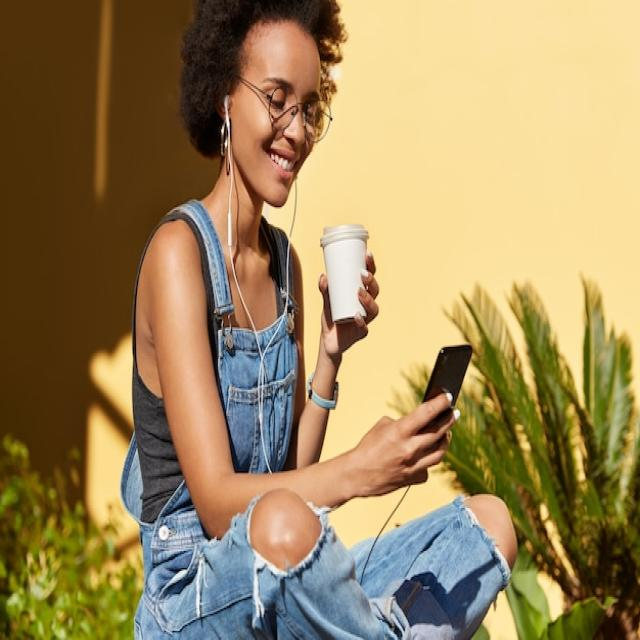Earphone: (223, 90, 298, 474)
